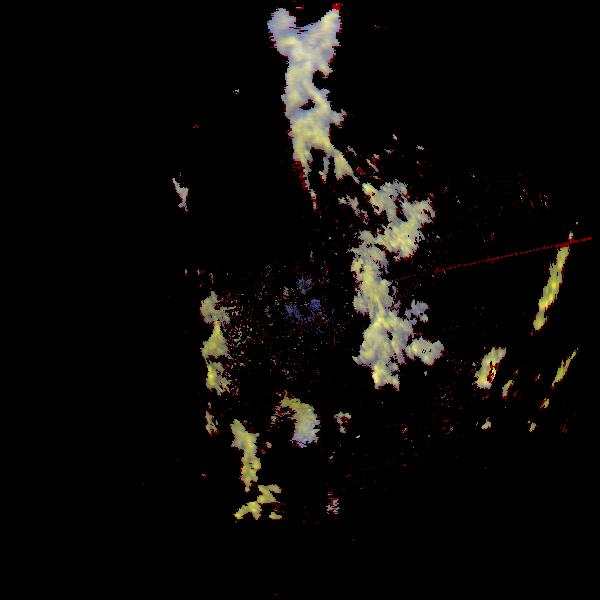roost: (261, 396, 321, 456)
